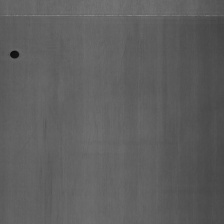welding_line: (0, 11, 224, 25), (8, 45, 22, 63)
